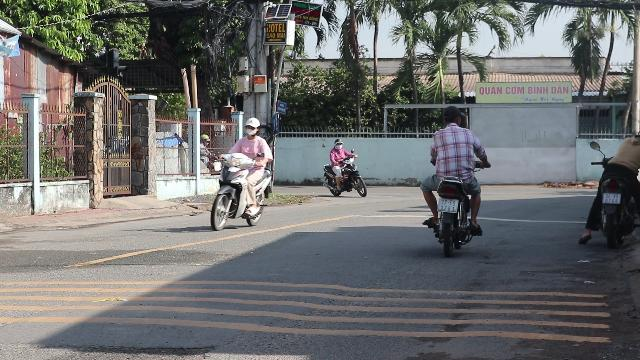helmet: (242, 118, 260, 138)
licenseplate: (438, 198, 458, 214), (602, 193, 620, 203)
motorcyclist: (417, 104, 487, 256), (208, 116, 276, 232), (582, 127, 640, 245)
nohelmet: (441, 105, 463, 127)
